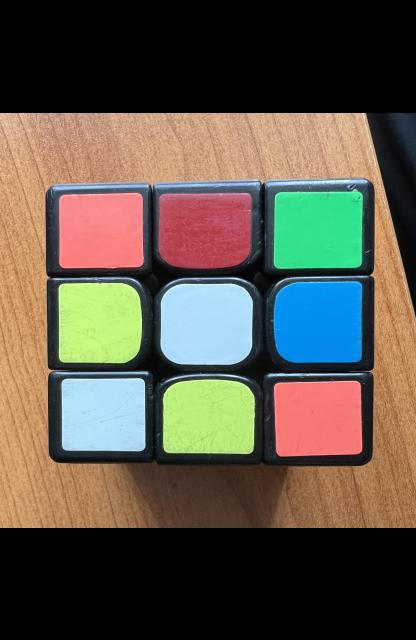Blue: (273, 280, 362, 362)
Green: (273, 190, 363, 268)
Orange: (274, 380, 362, 455), (59, 192, 144, 267)
Red: (158, 192, 252, 268)
White: (160, 282, 253, 364), (62, 377, 146, 450)
Yellow: (163, 378, 256, 453), (58, 282, 142, 362)
